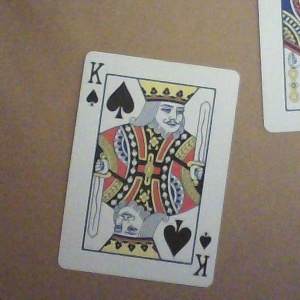card: (57, 49, 242, 289)
